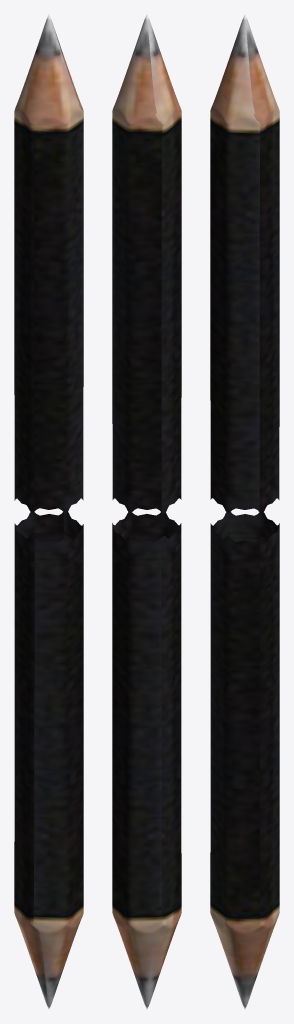
The model's file is Pencel_RigitBody4.fbx.
3 views of the same model, side by side, from view 1: azimuth 30°, elevation 25°; view 2: azimuth 150°, elevation 25°; view 3: azimuth 330°, elevation 25° (orthographic).
Parts seen in each view (by area): view 1: Pencil_up; view 2: Pencil_up; view 3: Pencil_up.
Boxes of the visible parts, bbox=[...] form: Pencil_up: bbox=[14, 14, 83, 1009]; Pencil_up: bbox=[112, 14, 181, 1009]; Pencil_up: bbox=[210, 14, 279, 1009].
Size of the model in its own units: 1.3 by 22.52 by 1.42.
